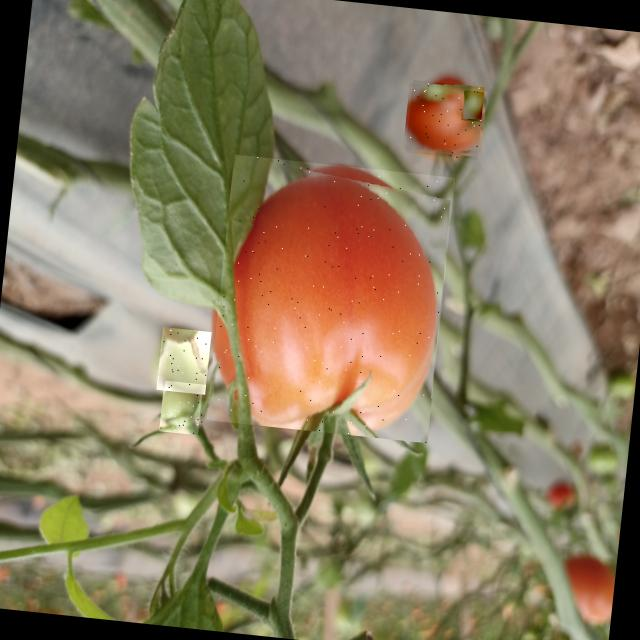Ripe Tomato: (206, 154, 455, 443), (405, 80, 484, 160)
Unripe Tomato: (156, 326, 211, 394), (159, 380, 206, 435), (461, 90, 484, 122)
